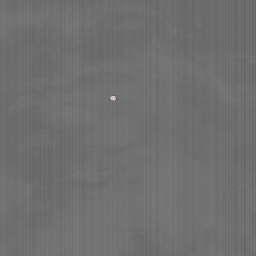Target: (108, 95, 116, 102)
